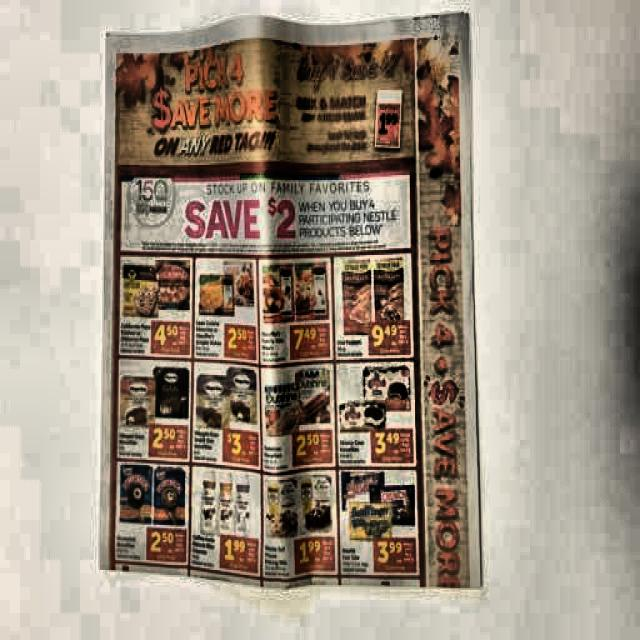paper: (101, 16, 486, 590)
